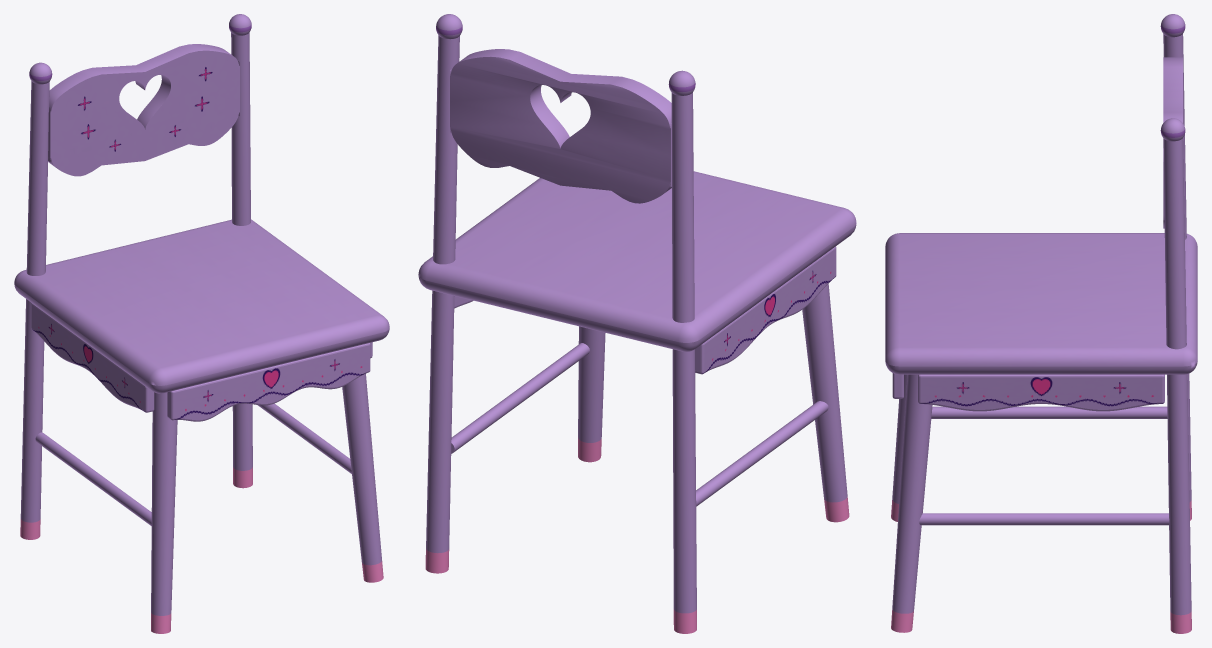
Rendered from LavenderChibiChair_360x380x680mm.fbx.
3 views of the same model, side by side, from view 1: azimuth 30°, elevation 25°; view 2: azimuth 150°, elevation 25°; view 3: azimuth 270°, elevation 25° (orthographic). The views are drawn at different scales.
Parts seen in each view (by area): view 1: Chair_Seat, Chair_Backrest, Chair_BackPost_Left, Chair_Apron_Front, Chair_Leg_FrontLeft, Chair_BackPost_Right, Chair_Leg_FrontRight, Chair_Apron_Left, Chair_Stretcher_Left, Chair_Stretcher_Right; view 2: Chair_Seat, Chair_Backrest, Chair_BackPost_Left, Chair_BackPost_Right, Chair_Leg_FrontLeft, Chair_Apron_Left, Chair_Leg_FrontRight, Chair_Stretcher_Right, Chair_Stretcher_Left; view 3: Chair_Seat, Chair_BackPost_Right, Chair_Apron_Right, Chair_Leg_FrontRight, Chair_Stretcher_Right, Chair_Stretcher_Left, Chair_Backrest, Chair_BackPost_Left, Chair_Leg_FrontLeft, Chair_Finial_Right, Chair_Finial_Left.
Boxes of the visible parts, x1=… form: Chair_Seat: x1=14, y1=219, x2=389, y2=393; Chair_Backrest: x1=48, y1=44, x2=239, y2=176; Chair_BackPost_Left: x1=20, y1=81, x2=49, y2=539; Chair_Apron_Front: x1=167, y1=343, x2=370, y2=421; Chair_Leg_FrontLeft: x1=151, y1=392, x2=177, y2=633; Chair_BackPost_Right: x1=231, y1=32, x2=252, y2=488; Chair_Leg_FrontRight: x1=342, y1=373, x2=383, y2=582; Chair_Apron_Left: x1=31, y1=303, x2=154, y2=412; Chair_Stretcher_Left: x1=35, y1=432, x2=151, y2=525; Chair_Stretcher_Right: x1=257, y1=403, x2=351, y2=473; Chair_Seat: x1=418, y1=171, x2=856, y2=351; Chair_Backrest: x1=450, y1=49, x2=671, y2=203; Chair_BackPost_Left: x1=671, y1=92, x2=696, y2=633; Chair_BackPost_Right: x1=425, y1=35, x2=459, y2=573; Chair_Leg_FrontLeft: x1=802, y1=284, x2=849, y2=522; Chair_Apron_Left: x1=695, y1=246, x2=836, y2=374; Chair_Leg_FrontRight: x1=578, y1=326, x2=605, y2=462; Chair_Stretcher_Right: x1=451, y1=343, x2=589, y2=453; Chair_Stretcher_Left: x1=696, y1=401, x2=828, y2=506; Chair_Seat: x1=885, y1=233, x2=1197, y2=374; Chair_BackPost_Right: x1=1163, y1=138, x2=1191, y2=633; Chair_Apron_Right: x1=918, y1=374, x2=1164, y2=411; Chair_Leg_FrontRight: x1=891, y1=374, x2=932, y2=632; Chair_Stretcher_Right: x1=919, y1=513, x2=1169, y2=525; Chair_Stretcher_Left: x1=931, y1=406, x2=1167, y2=418; Chair_Backrest: x1=1163, y1=57, x2=1182, y2=228; Chair_BackPost_Left: x1=1163, y1=34, x2=1191, y2=520; Chair_Leg_FrontLeft: x1=891, y1=374, x2=907, y2=521; Chair_Finial_Right: x1=1160, y1=118, x2=1185, y2=141; Chair_Finial_Left: x1=1160, y1=14, x2=1185, y2=37.
Size of the model in its own units: 0.36 by 0.68 by 0.38.
Materials: 5 (3 with a texture image).
